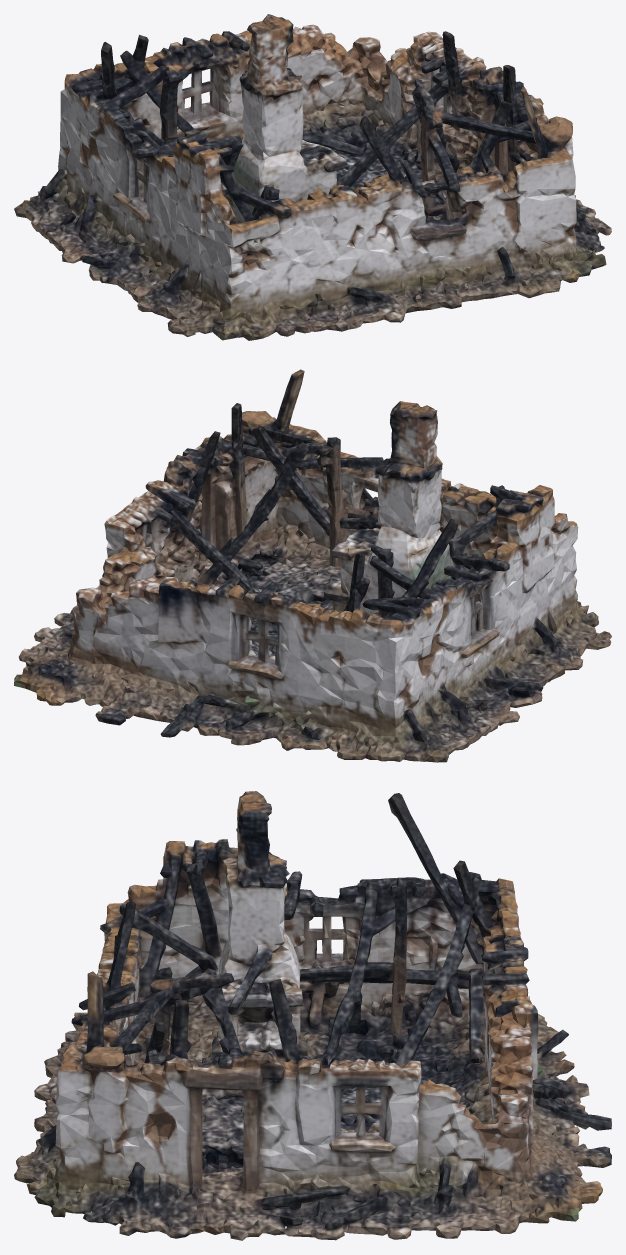
File: k_khata_ruin.obj
3 renders of one model, top to bottom at view 1: azimuth 30°, elevation 25°; view 2: azimuth 150°, elevation 25°; view 3: azimuth 270°, elevation 25°, orthographic. The views are drawn at different scales.
Parts seen in each view (by area): view 1: k_khata_ruin; view 2: k_khata_ruin; view 3: k_khata_ruin.
Part boxes in pixels (bbox=[...]): k_khata_ruin: bbox=[14, 14, 611, 340]; k_khata_ruin: bbox=[14, 369, 611, 762]; k_khata_ruin: bbox=[14, 791, 611, 1240].
Bounding box in the file's own units: 10.66 × 5.5 × 10.68.
Materials: 1 (1 with a texture image).
